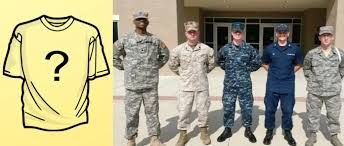uniform: (116, 29, 161, 130), (172, 36, 215, 126), (307, 43, 340, 132)
